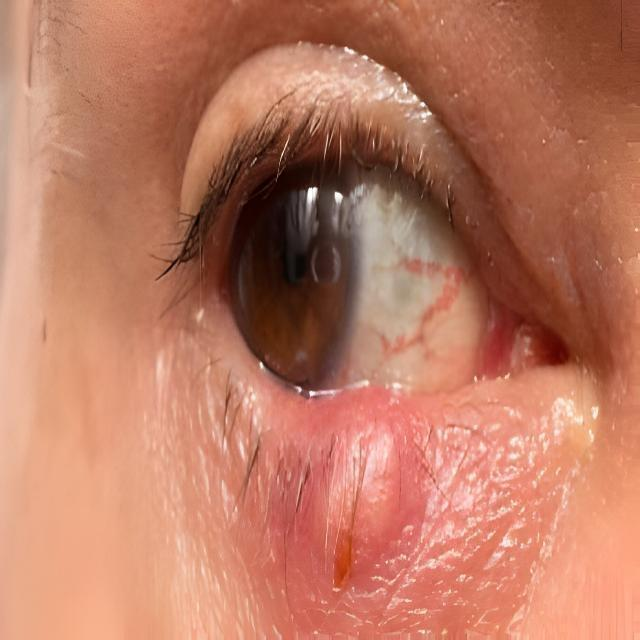Stye: (238, 338, 485, 640)
